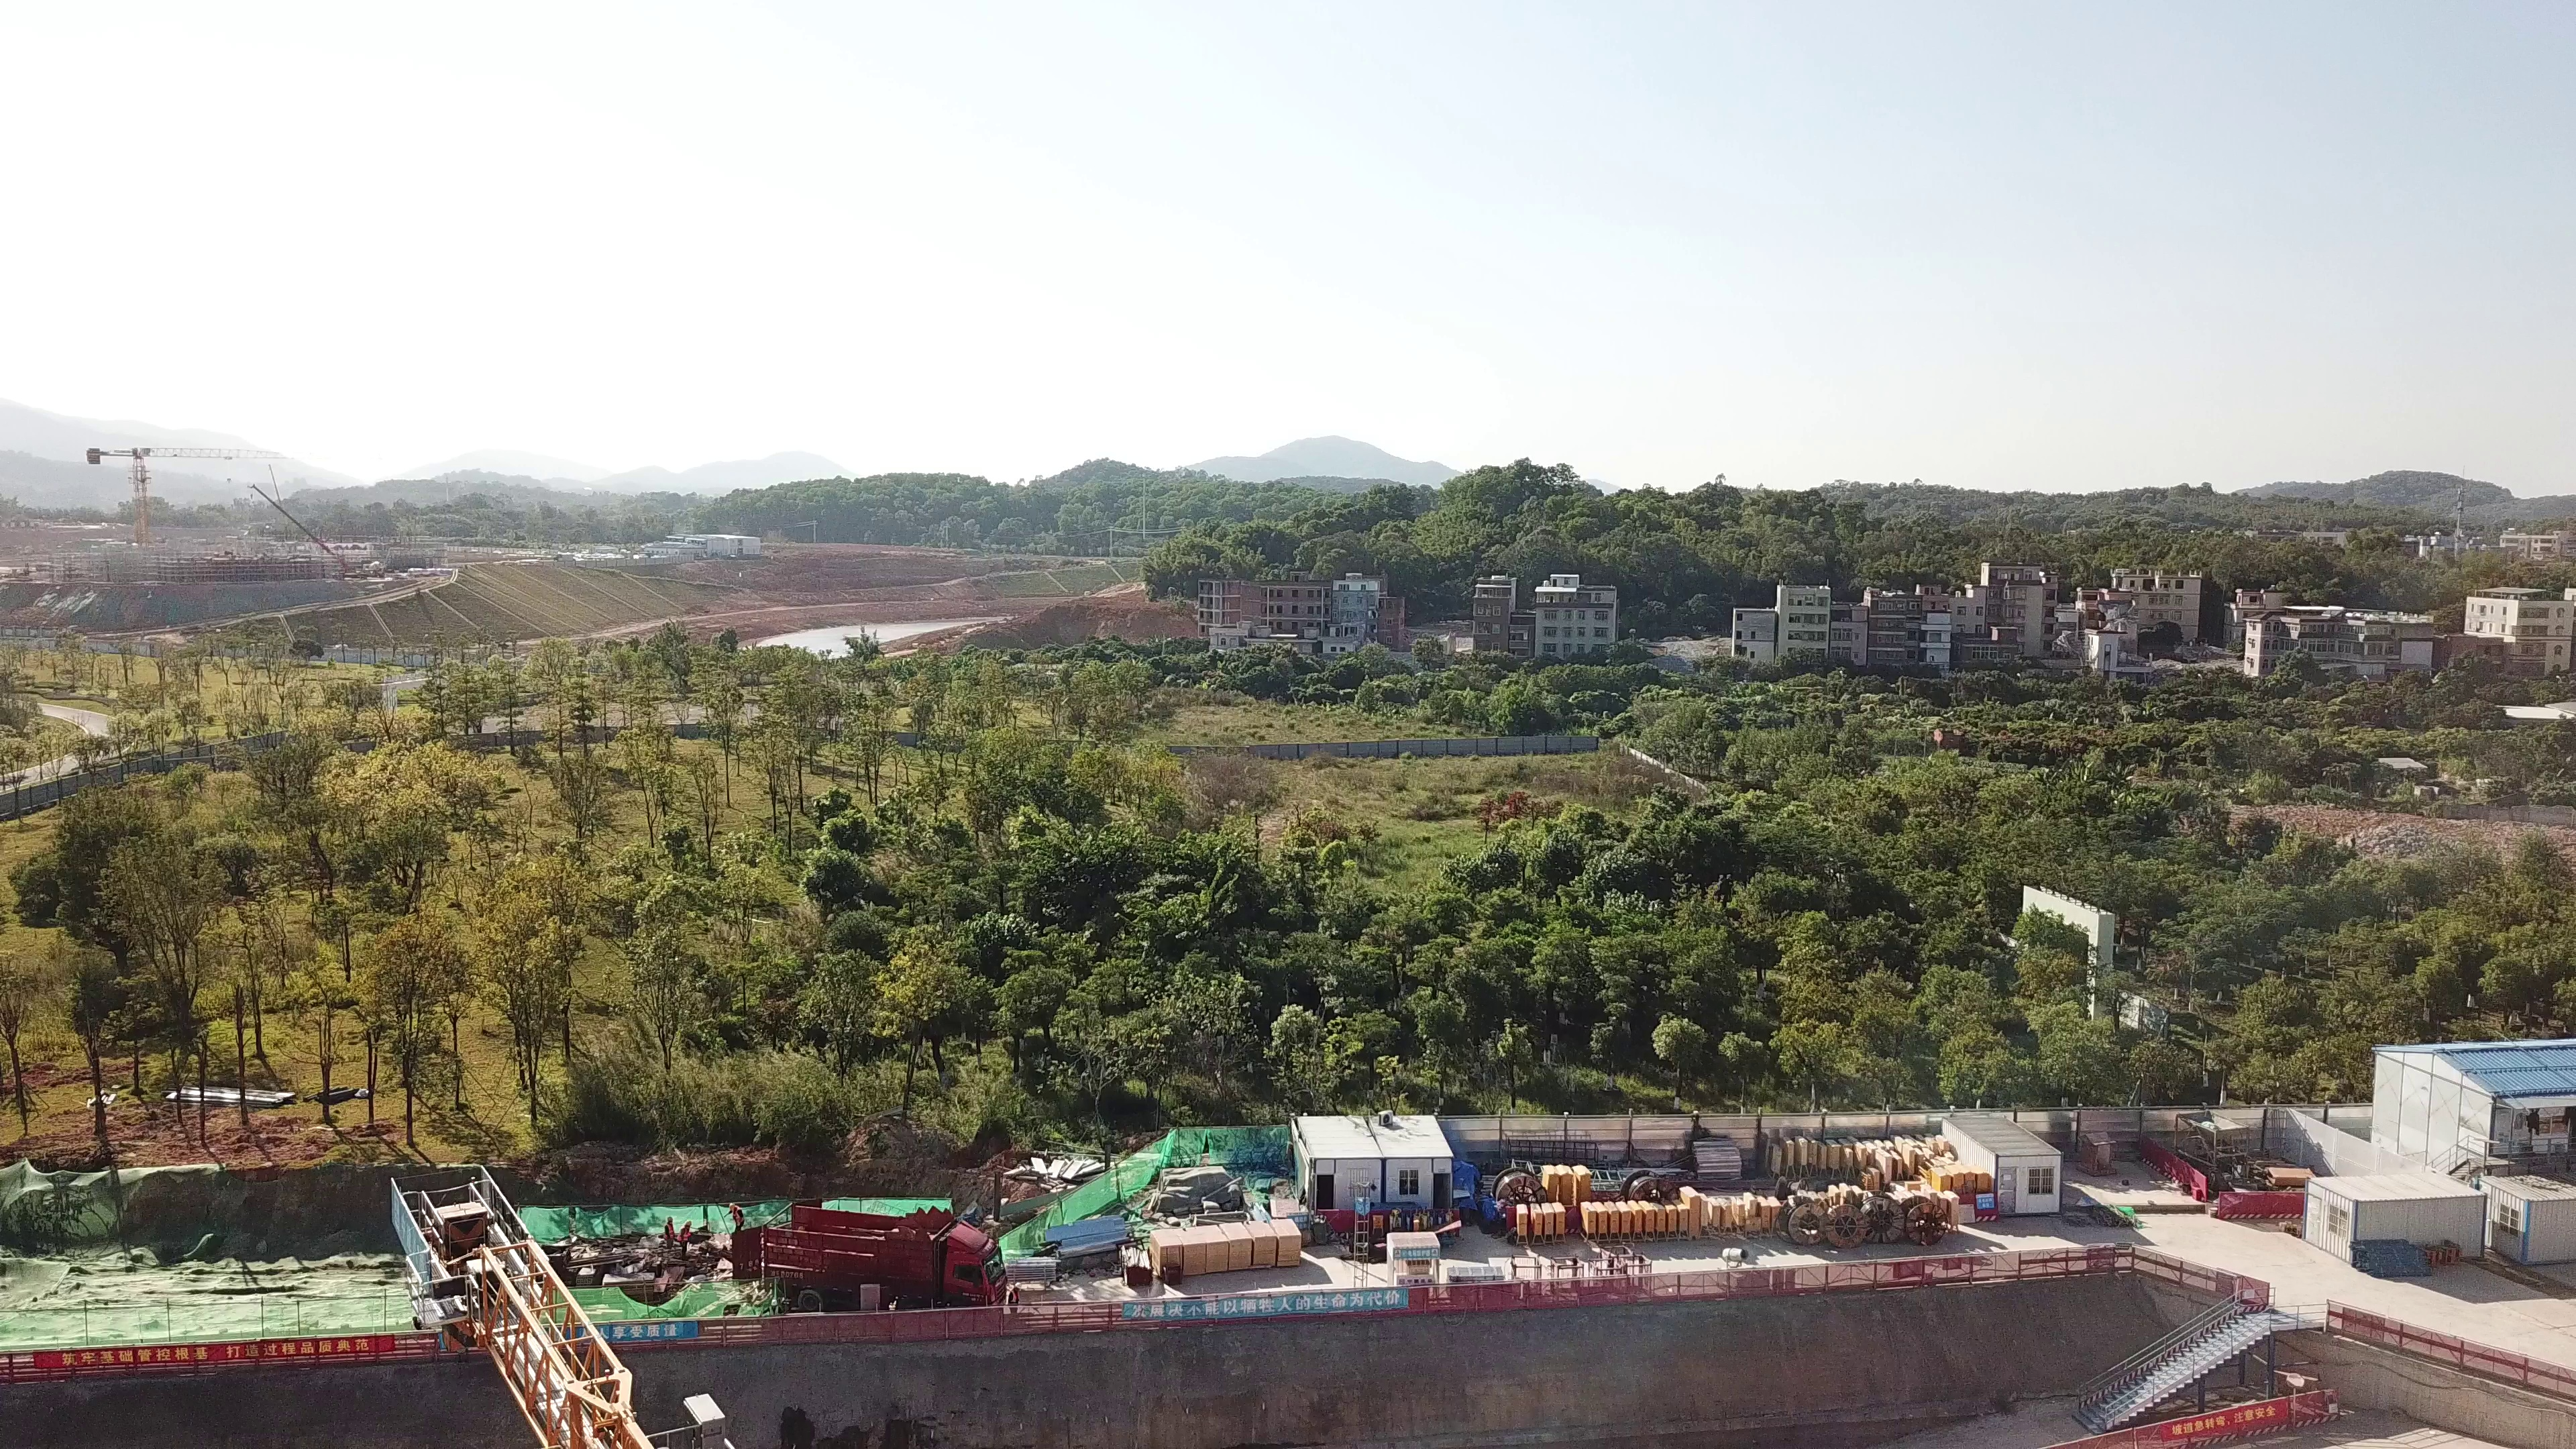fence: (959, 1281, 1879, 1328), (1449, 1103, 2193, 1152)
helmet: (1014, 1281, 1024, 1289), (726, 1203, 735, 1213), (666, 1215, 674, 1221), (686, 1221, 692, 1226)
person: (676, 1216, 696, 1257), (724, 1203, 749, 1231), (1008, 1275, 1024, 1314), (661, 1214, 676, 1250)
scaffold: (1006, 1258, 1069, 1285), (1120, 1246, 1153, 1284)
slogan: (62, 1338, 383, 1371), (1120, 1293, 1411, 1318), (2163, 1400, 2294, 1436), (528, 1319, 701, 1345)
vest: (662, 1224, 677, 1240), (735, 1205, 747, 1224), (678, 1226, 691, 1242), (1010, 1289, 1020, 1304)
wood: (1150, 1220, 1301, 1275)
